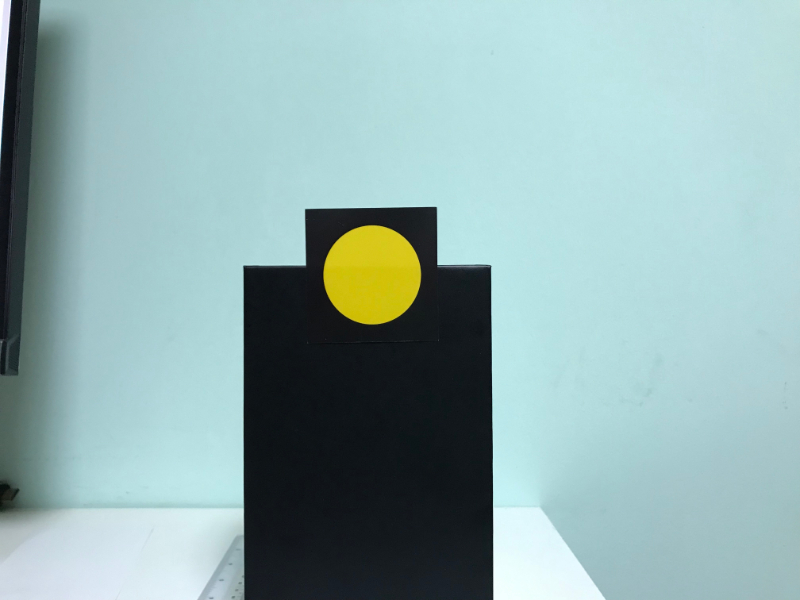Stop-5: (309, 210, 435, 337)
